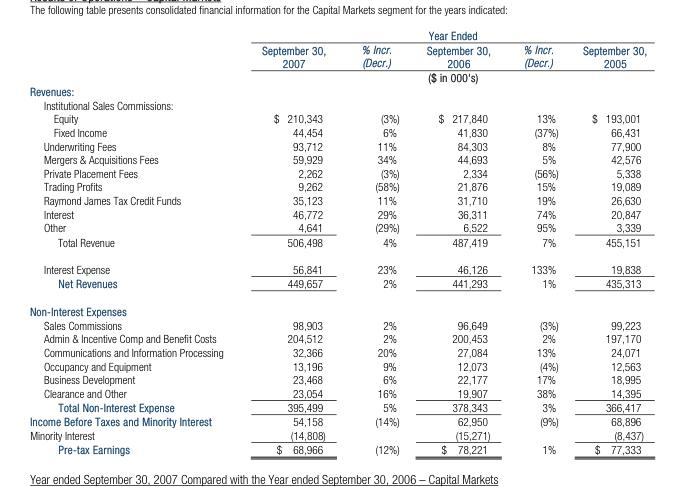table: (29, 28, 646, 455)
table column: (29, 28, 242, 455), (242, 28, 342, 455), (412, 28, 506, 455), (570, 28, 646, 455), (342, 28, 412, 455), (506, 28, 570, 455)
table column header: (29, 28, 646, 84)
table projected row header: (29, 296, 646, 317), (29, 97, 646, 111), (29, 84, 646, 97)
table row: (29, 41, 646, 70), (29, 234, 646, 255), (29, 275, 646, 296), (29, 296, 646, 317), (29, 255, 646, 275), (29, 399, 646, 414), (29, 70, 646, 84), (29, 97, 646, 111), (29, 111, 646, 125), (29, 138, 646, 152), (29, 165, 646, 179), (29, 179, 646, 193), (29, 206, 646, 220), (29, 220, 646, 234), (29, 317, 646, 331), (29, 331, 646, 345), (29, 358, 646, 372), (29, 385, 646, 399), (29, 414, 646, 428), (29, 441, 646, 455), (29, 28, 646, 41), (29, 84, 646, 97), (29, 125, 646, 138), (29, 152, 646, 165), (29, 193, 646, 206), (29, 345, 646, 358), (29, 372, 646, 385), (29, 428, 646, 441)
table spanning cell: (242, 70, 646, 84), (242, 28, 646, 41)
